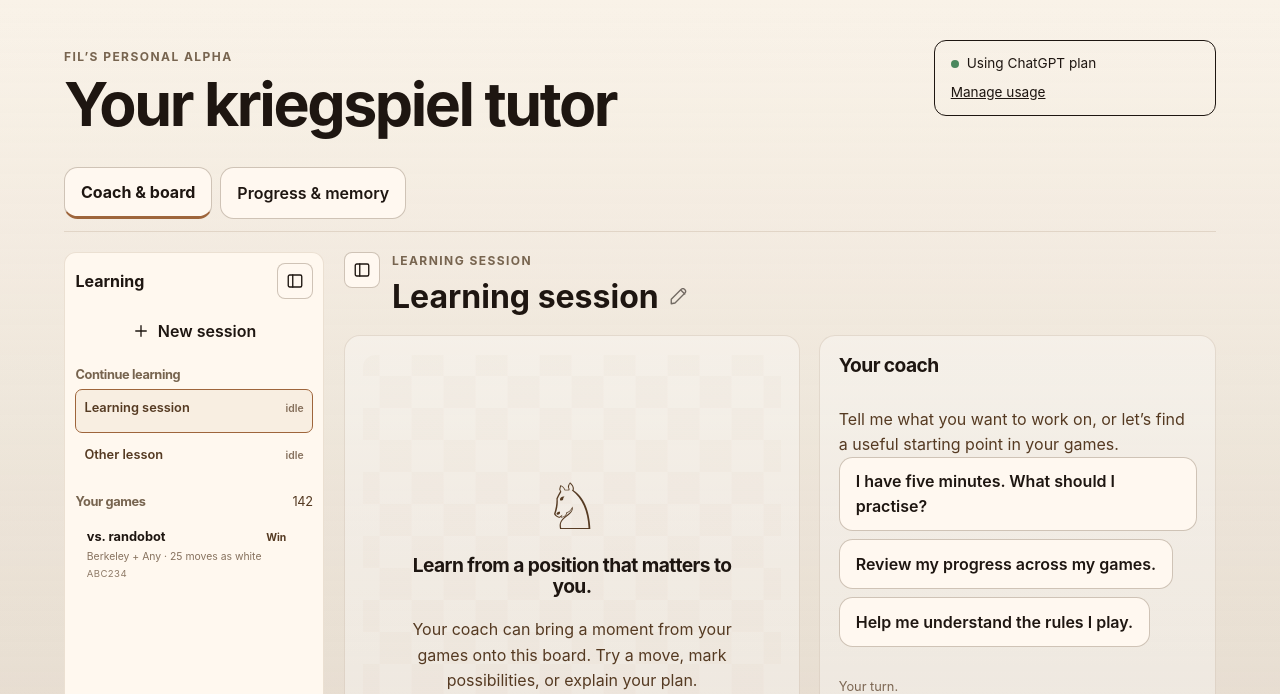
does_not_replace_the_active_session_when_an_earlier_rename_finishes_after_switching_to_s2
Click the button with aria-label "Rename learning session:".
click(540, 297)  # box [392, 274, 687, 319]
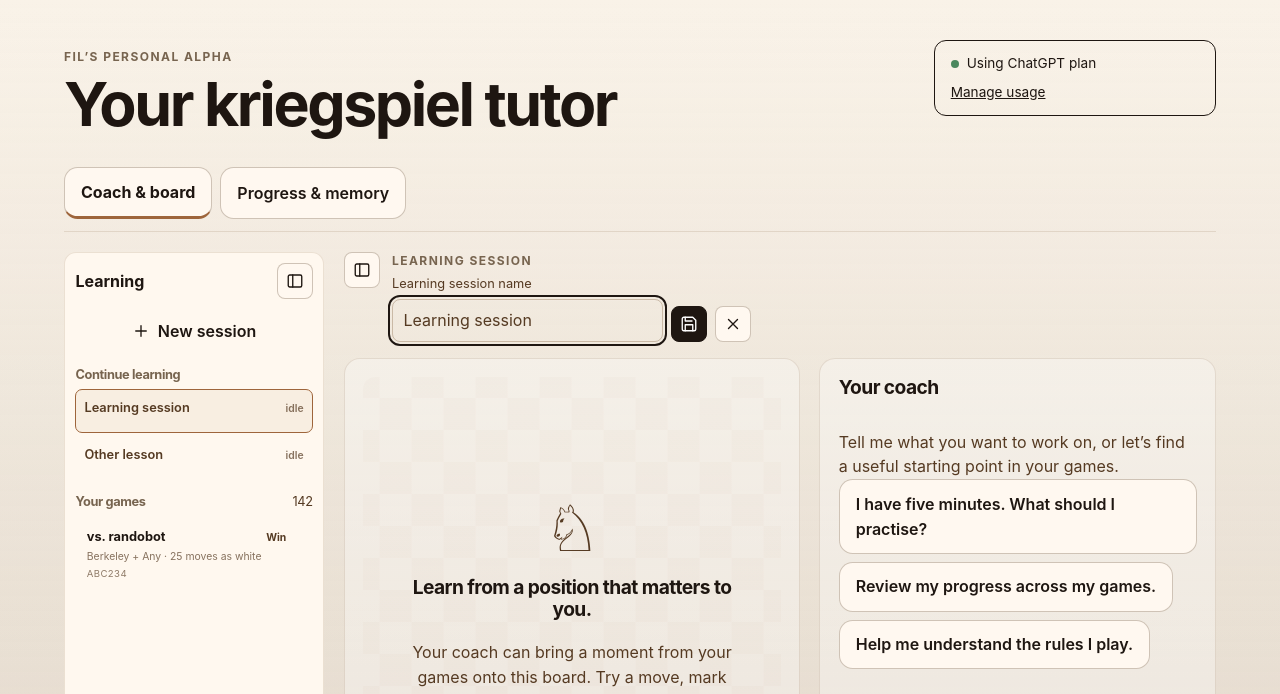
Click the button named "Save session name".
click(689, 324)  # box [671, 306, 707, 342]
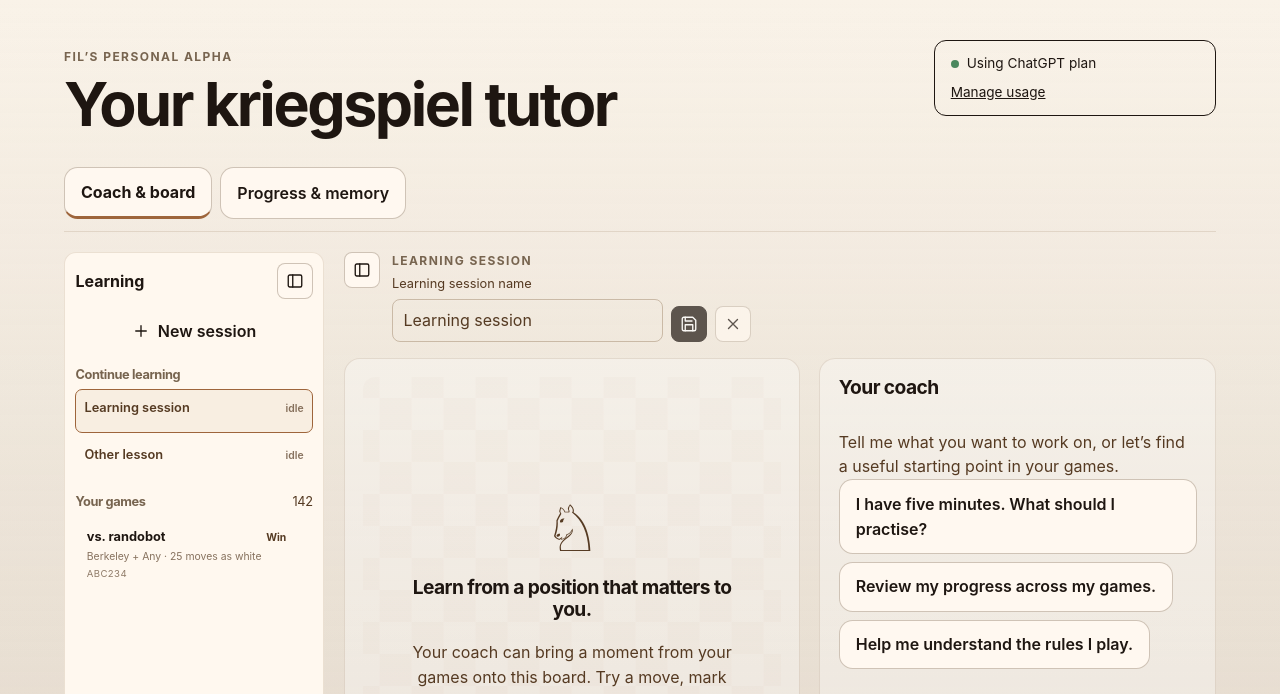
Click the button "Other lesson idle".
click(194, 458)  # box [75, 436, 313, 480]
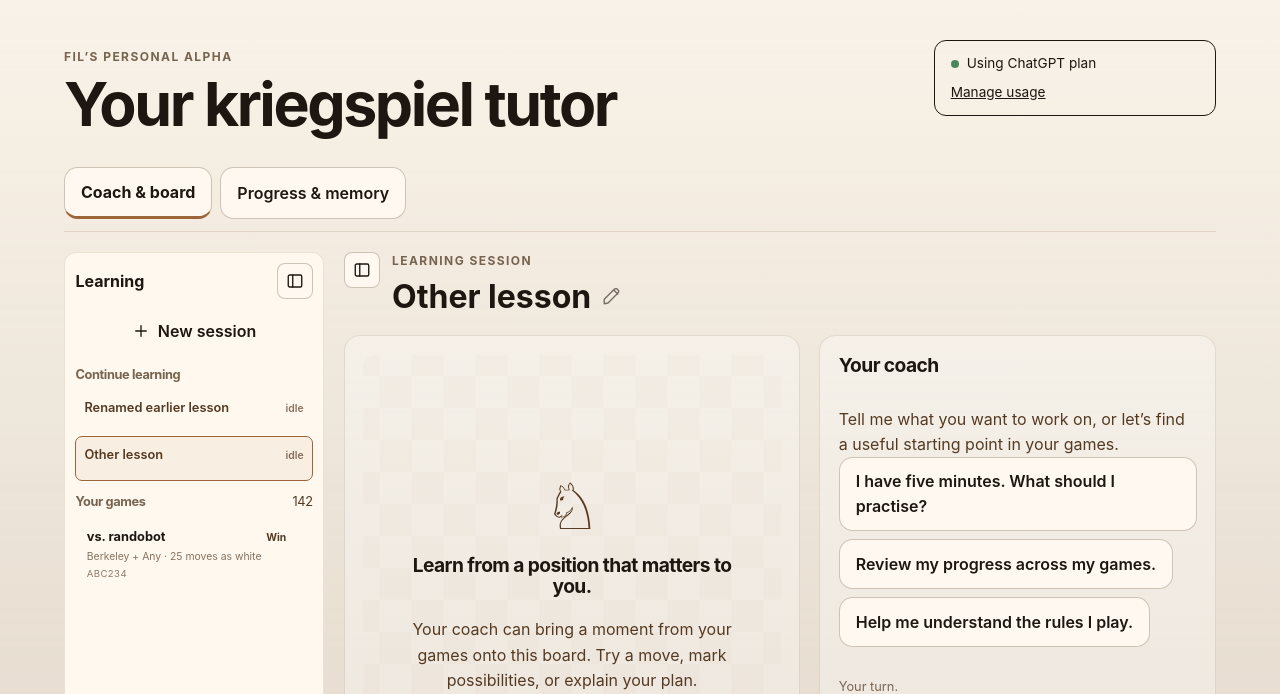
Result: the heading "Other lesson" is shown at [392, 274, 620, 319]
Result: the button "Renamed earlier lesson idle" is shown at [75, 388, 313, 433]
